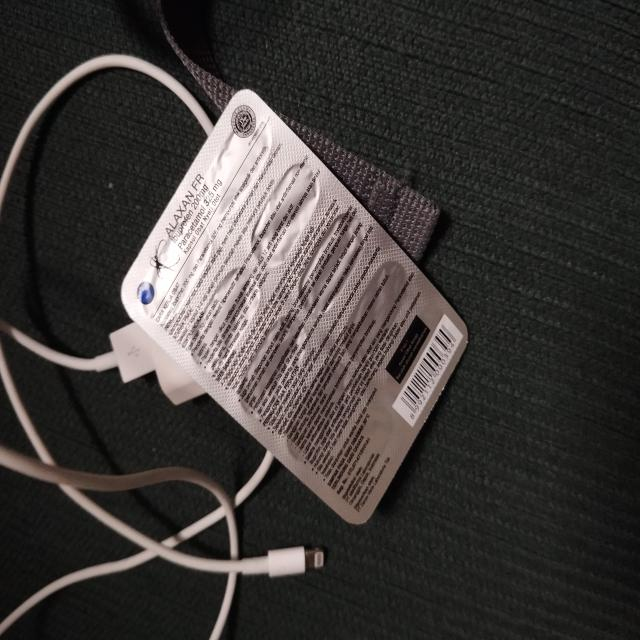B3: (123, 89, 466, 522)
